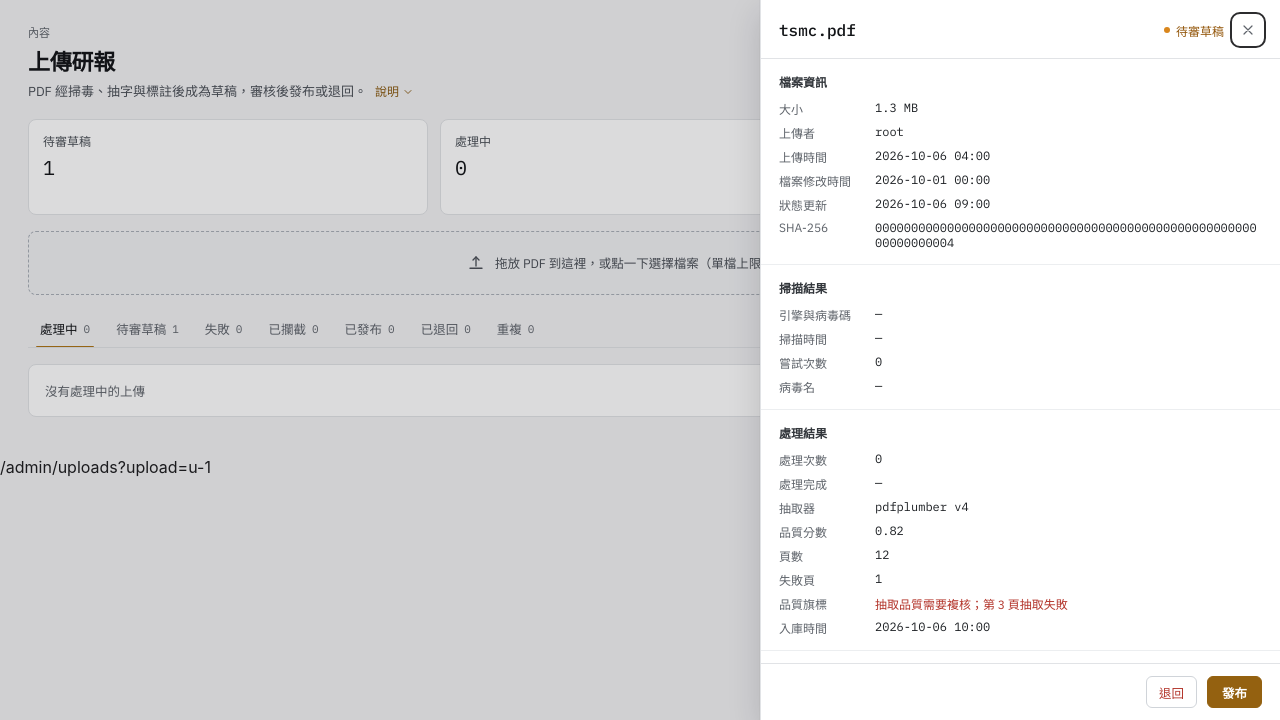
發布遇到 409 upload_state_conflict：顯示中文說明並重抓詳情
Click the button "發布" at (1234, 692), box [1207,676,1262,708]
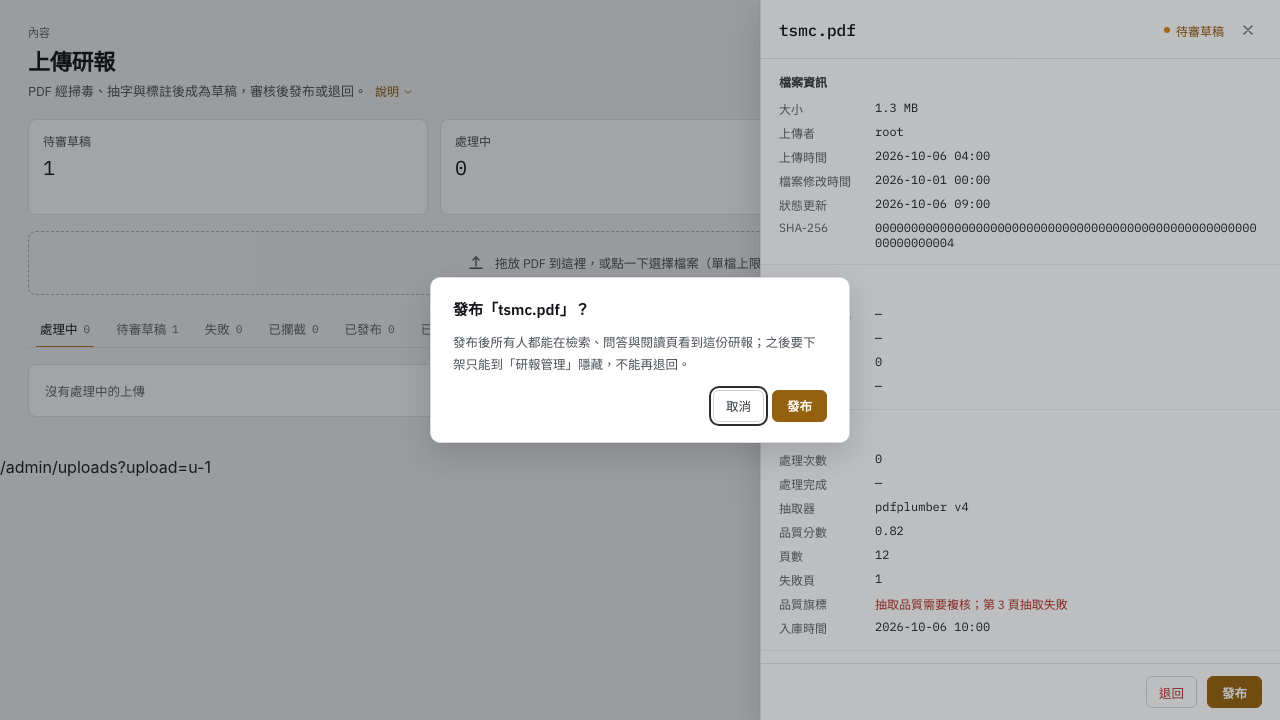
Click the button "發布" at (800, 406), box [772,390,827,422]
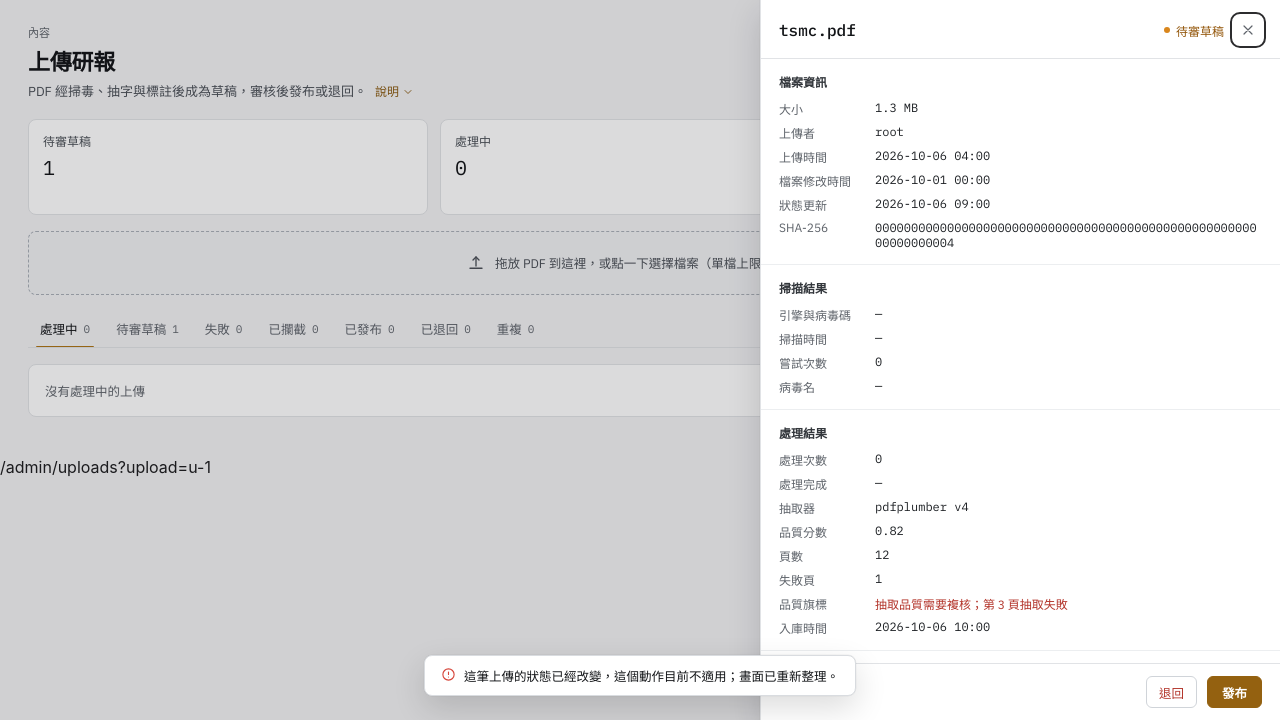
Result: the text "這筆上傳的狀態已經改變，這個動作目前不適用；畫面已重新整理。" is shown at [424,655,856,696]
